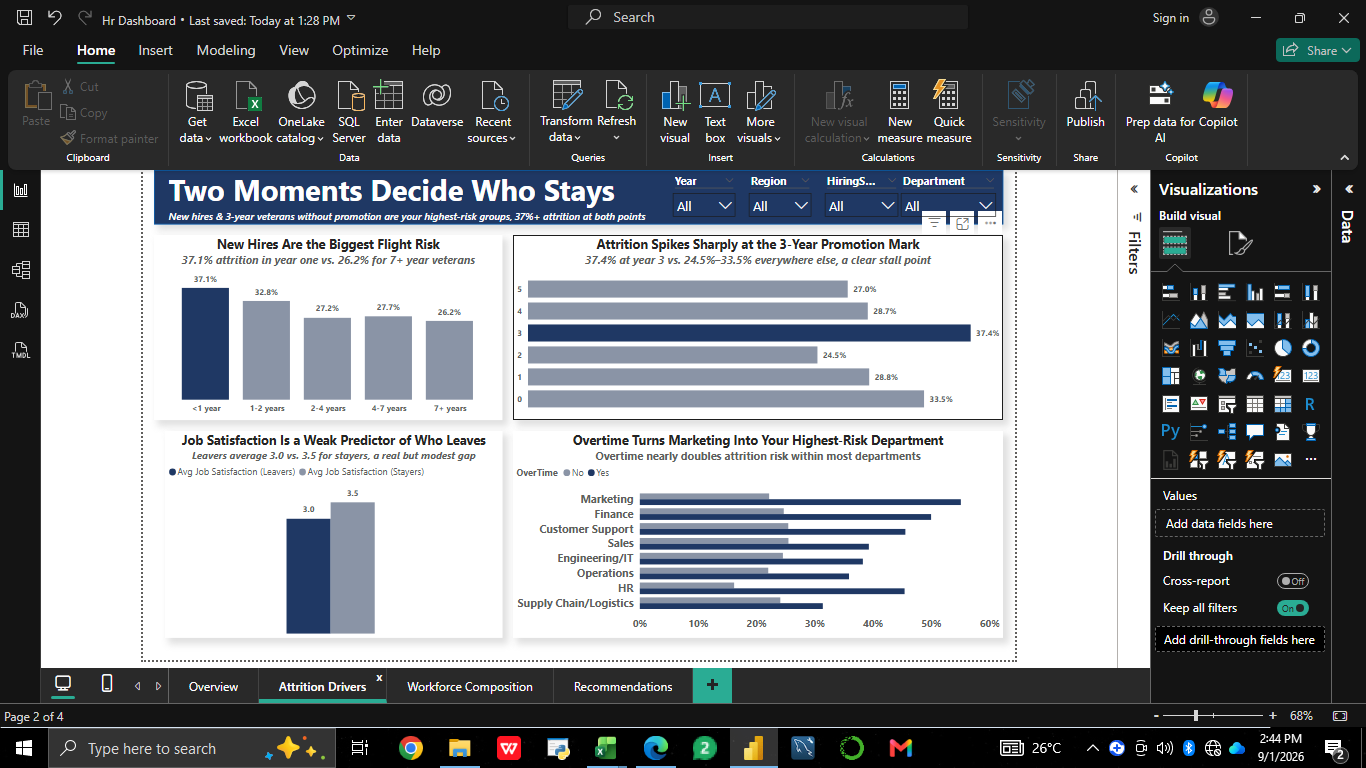

The dashboard page shown, as its layout file describes it:
{"tool":"powerbi","page":{"name":"Attrition Drivers","canvas":[1280,720],"ordinal":1},"visuals":[{"type":"shape","box":[16,0,1248,80],"z":0},{"type":"columnChart","title":"New Hires Are the Biggest Flight Risk","fields":{"Category":["Employee_Data.TenureBand"],"Y":["Measure.Attrition Rate"]},"box":[16,96,512,272],"z":1000},{"type":"clusteredColumnChart","title":"Job Satisfaction Is a Weak Predictor of Who Leaves","fields":{"Y":["Measure.Avg Job Satisfaction (Leavers)","Measure.Avg Job Satisfaction (Stayers)"]},"box":[32,384,496,304],"z":2000},{"type":"barChart","title":"Attrition Spikes Sharply at the 3-Year Promotion Mark","fields":{"Y":["Measure.Attrition Rate"],"Category":["Employee_Data.YearsSinceLastPromotion"]},"box":[544,96,720,272],"z":3000},{"type":"clusteredBarChart","title":"Overtime Turns Marketing Into Your Highest-Risk Department","fields":{"Y":["Measure.Attrition Rate"],"Category":["Employee_Data.Department"],"Series":["Employee_Data.OverTime"]},"box":[544,384,720,304],"z":4000},{"type":"textbox","title":"Two Moments Decide Who Stays","box":[32,0,736,80],"z":5000},{"type":"slicer","fields":{"Values":["CALENDER.Year"]},"box":[768,0,112,80],"z":6000},{"type":"slicer","fields":{"Values":["Employee_Data.Region"]},"box":[880,0,112,80],"z":7000},{"type":"slicer","fields":{"Values":["Employee_Data.Department"]},"box":[1104,0,160,80],"z":8000},{"type":"slicer","fields":{"Values":["Employee_Data.HiringSource"]},"box":[992,0,128,80],"z":9000}]}

Visuals, with their boxes on the page's 1280x720 design canvas (x1, y1, x2, y2). These are canvas units, not pixel positions in the 1366x768 screenshot, which may show the page scaled, cropped or inside an application window:
shape: 16/0/1264/80
"New Hires Are the Biggest Flight Risk" columnChart: 16/96/528/368
"Job Satisfaction Is a Weak Predictor of Who Leaves" clusteredColumnChart: 32/384/528/688
"Attrition Spikes Sharply at the 3-Year Promotion Mark" barChart: 544/96/1264/368
"Overtime Turns Marketing Into Your Highest-Risk Department" clusteredBarChart: 544/384/1264/688
"Two Moments Decide Who Stays" textbox: 32/0/768/80
slicer - CALENDER.Year: 768/0/880/80
slicer - Employee_Data.Region: 880/0/992/80
slicer - Employee_Data.Department: 1104/0/1264/80
slicer - Employee_Data.HiringSource: 992/0/1120/80
